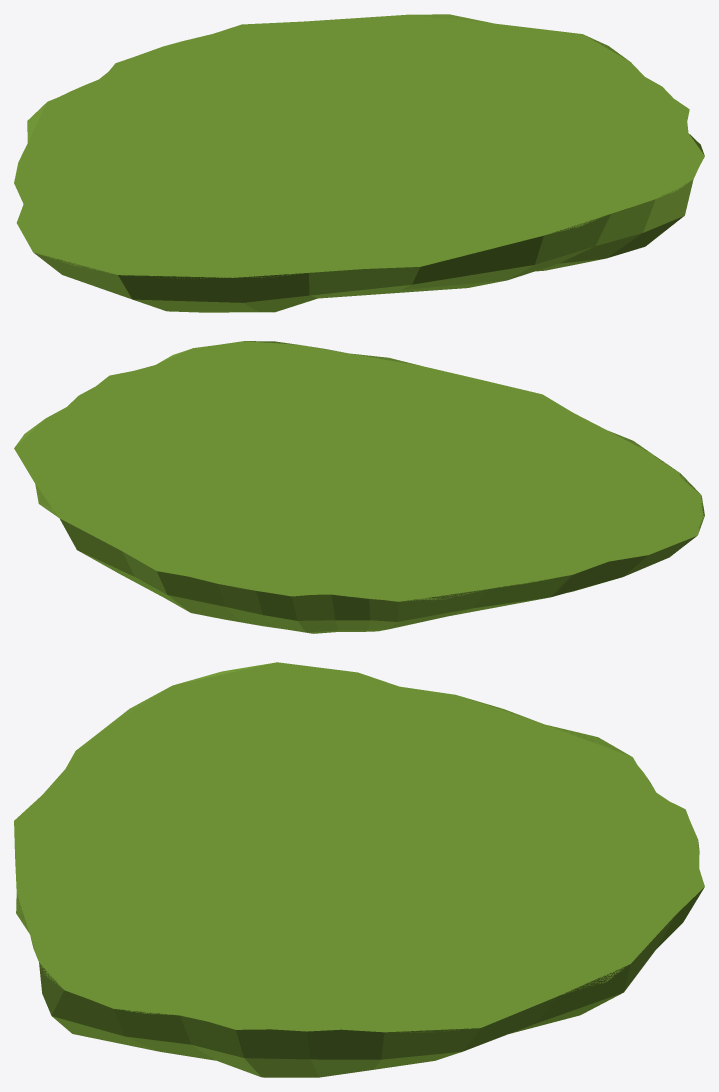
The model's file is mod_terrain_lvl3.fbx.
3 renders of one model, top to bottom at view 1: azimuth 30°, elevation 25°; view 2: azimuth 150°, elevation 25°; view 3: azimuth 270°, elevation 25°, orthographic. The views are drawn at different scales.
Parts seen in each view (by area): view 1: mod_terrain03_p1, mod_terrain03_p3, mod_terrain03_p2; view 2: mod_terrain03_p1, mod_terrain03_p3, mod_terrain03_p2; view 3: mod_terrain03_p1, mod_terrain03_p3, mod_terrain03_p2.
Boxes of the visible parts, x1,y1,x2,y2 form: mod_terrain03_p1: (27,20,687,272); mod_terrain03_p3: (14,14,704,312); mod_terrain03_p2: (14,14,704,278); mod_terrain03_p1: (31,347,688,597); mod_terrain03_p3: (14,341,704,633); mod_terrain03_p2: (14,341,704,601); mod_terrain03_p1: (31,670,686,1024); mod_terrain03_p3: (14,662,704,1077); mod_terrain03_p2: (14,662,704,1032).
Bounding box in the file's own units: 2723 × 351 × 2149.
